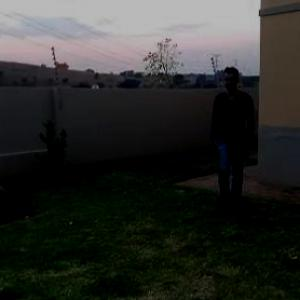follow: (211, 58, 270, 231)
